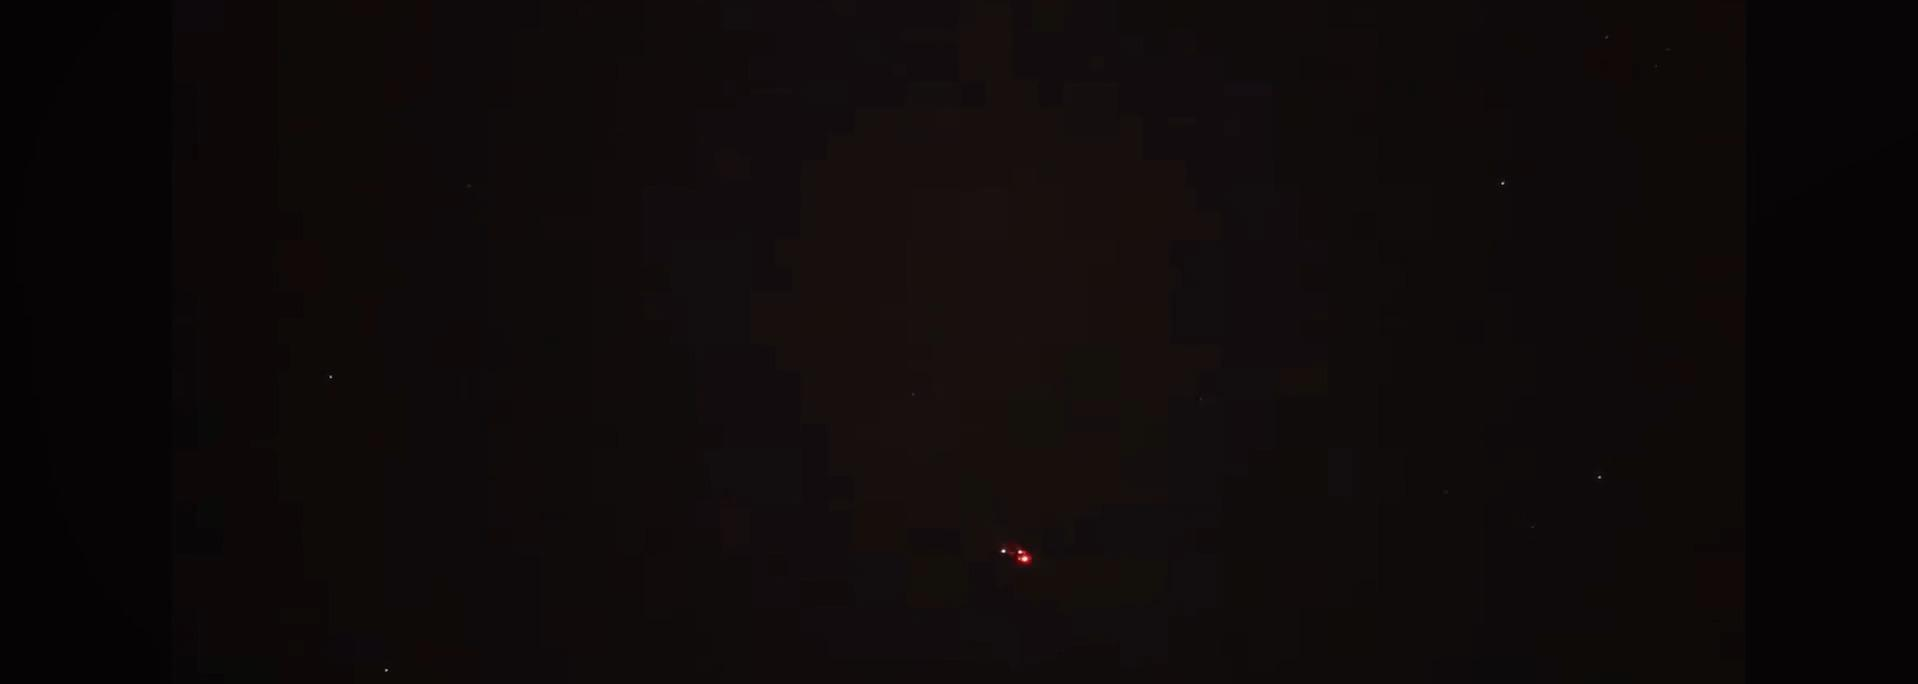Plane: (957, 532, 1078, 578)
